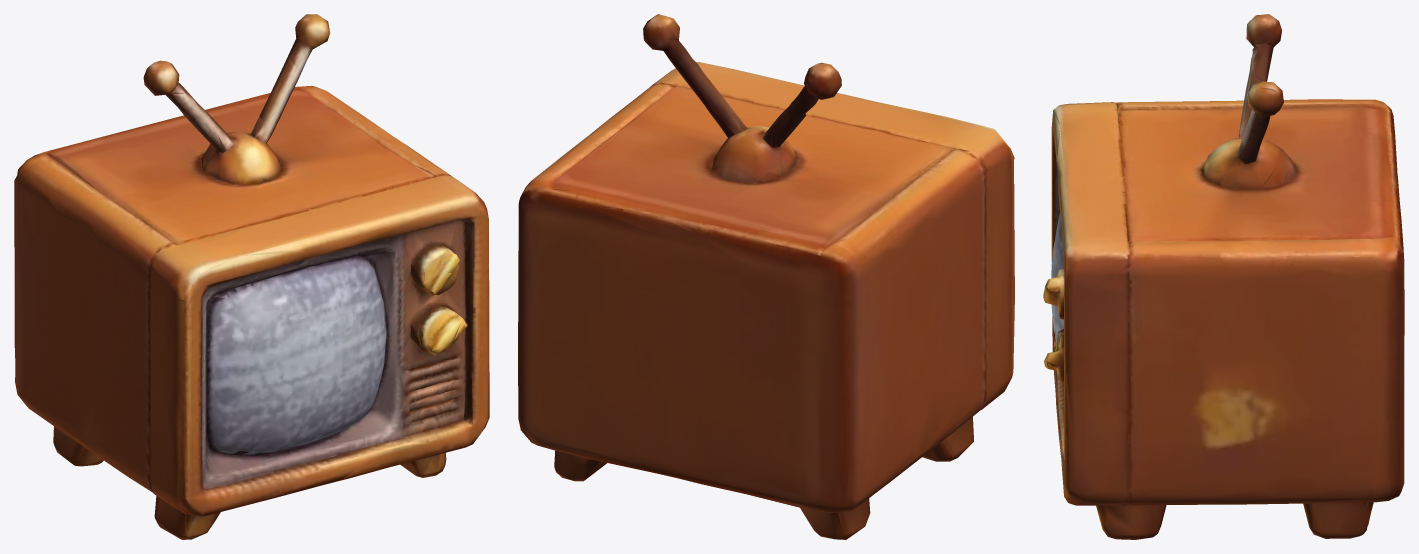
Rendered from appl09.glb.
3 renders of one model, left to right at view 1: azimuth 30°, elevation 25°; view 2: azimuth 150°, elevation 25°; view 3: azimuth 270°, elevation 25°, orthographic. The views are drawn at different scales.
Bounding box in the file's own units: 0.2133 × 0.2619 × 0.1983.
Materials: 1 (1 with a texture image).
